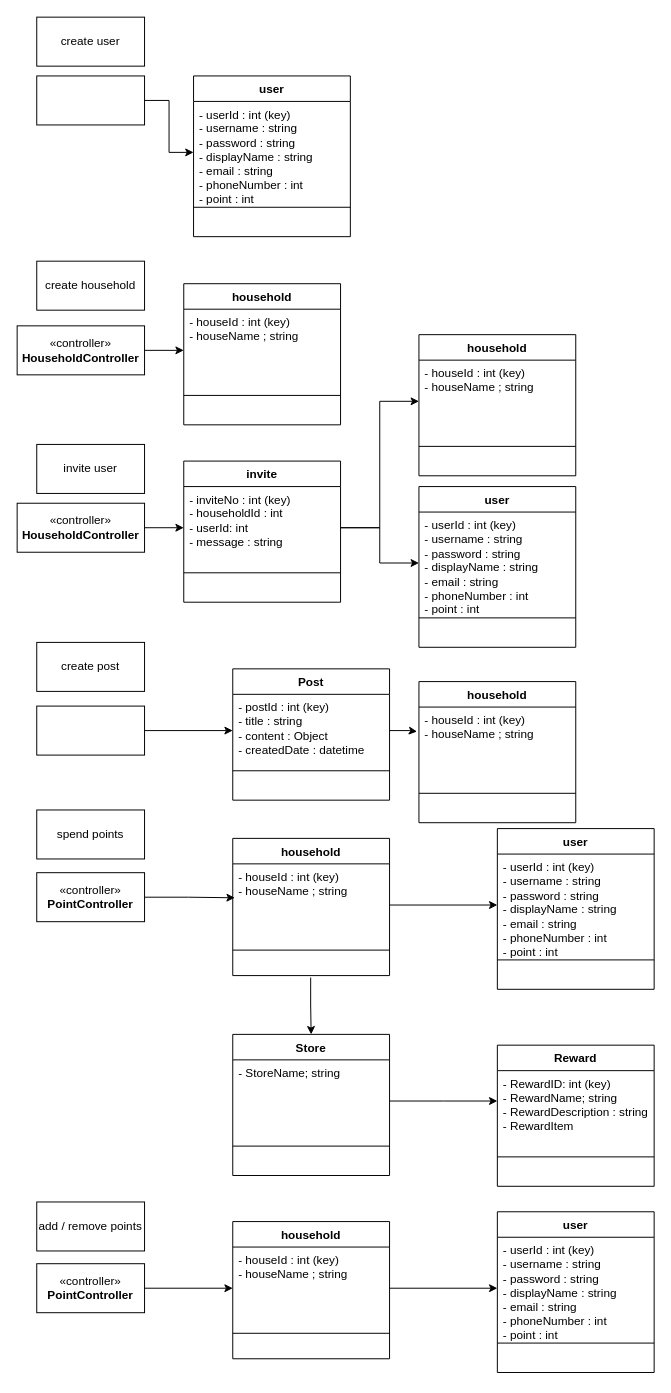
The diagram is 671 pixels wide and 1393 high, and some of its shapes have lost their labels. The centre of each missing label's shape, as x and y in pixels:
"«controller» AccountController" goes at pixel 90 100.
"«controller» PostController" goes at pixel 90 730.
